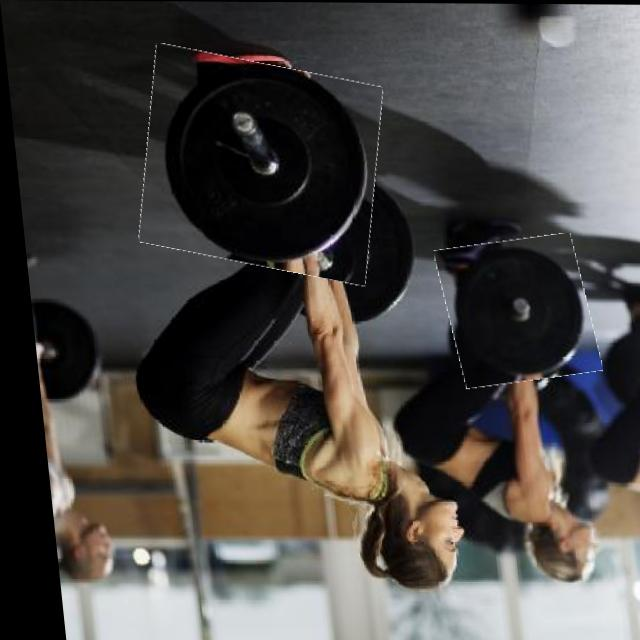barbell: (128, 53, 389, 277), (432, 237, 592, 386)
